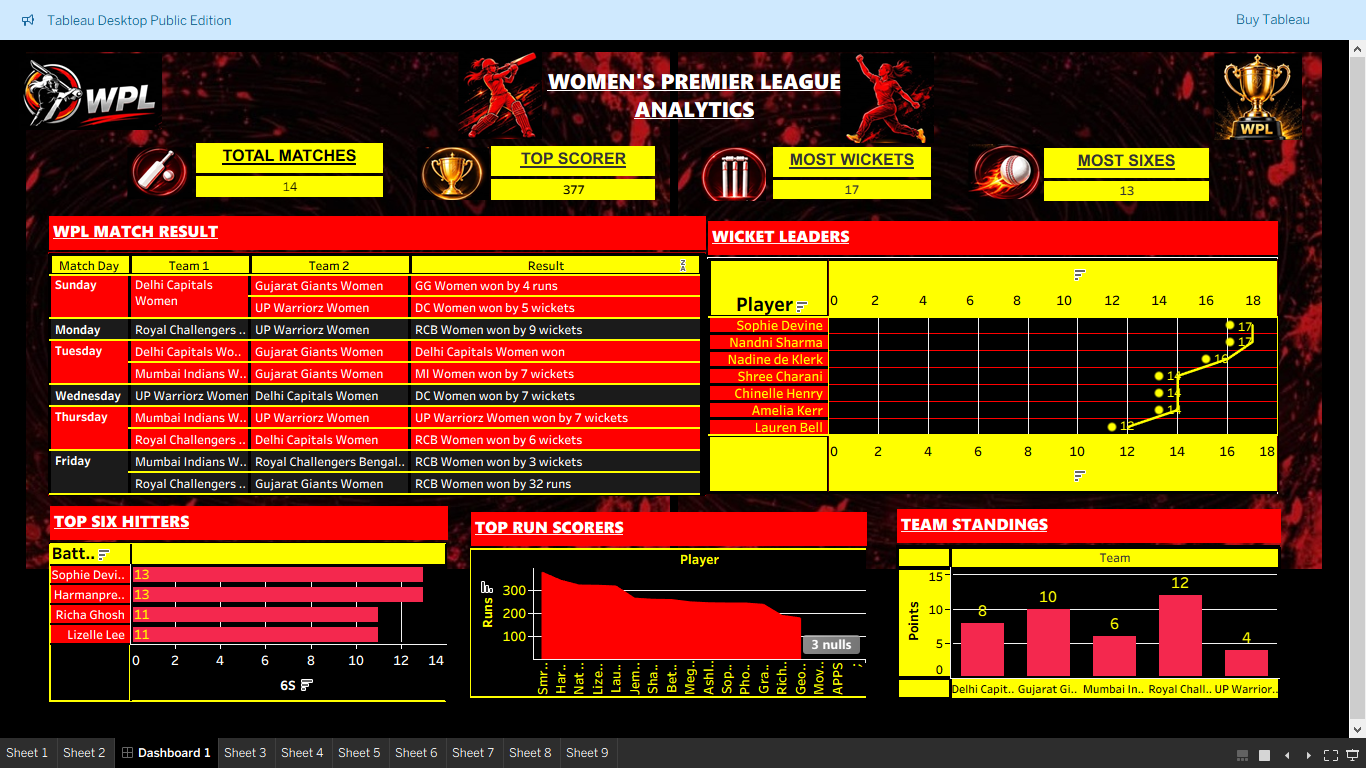

The dashboard page shown, as its layout file describes it:
{"tool":"tableau","page":{"name":"Dashboard 1","canvas":[1320,700],"ordinal":0},"visuals":[{"type":"image","param":"Image/dash 1.jpeg","box":[8,8,652,684]},{"type":"image","param":"Image/dash 1.jpeg","box":[660,8,652,684]},{"type":"image","param":"Image/dash 2.jpeg","box":[443.4,10,87.4,89]},{"type":"image","param":"Image/dash 6.jpg","box":[814.3,13,118.1,90]},{"type":"image","param":"Image/dash 5.jpg","box":[1199.2,13,90.2,87]},{"type":"text","box":[514.1,15,332.8,79]},{"type":"worksheet","title":"Sheet 6","mark":"Automatic","box":[182.2,103,186.8,54]},{"type":"image","param":"Image/dash 10.jpg","box":[953.8,104,72.5,56]},{"type":"image","param":"Image/dash 9.jpg","box":[403,105,72,57]},{"type":"worksheet","title":"Sheet 7","mark":"Automatic","box":[476.9,106,164.5,54]},{"type":"image","param":"Image/dash 7.jpg","box":[104,107,84,52]},{"type":"image","param":"Image/dash 8.jpg","box":[686,107,67,54]},{"type":"worksheet","title":"Sheet 8","mark":"Automatic","box":[758.5,107,158,52]},{"type":"worksheet","title":"Sheet 9","mark":"Automatic","box":[1030,108,165.5,53]},{"type":"worksheet","title":"Sheet 1","mark":"Automatic","rows":["Match Day","Team 1","Team 2","Result"],"box":[34.4,176,660,295]},{"type":"worksheet","title":"Sheet 4","mark":"Automatic","rows":["PLAYER"],"cols":["WKTS","WKTS"],"box":[693,181,572,287]},{"type":"worksheet","title":"Sheet 2","mark":"Automatic","rows":["BATTER"],"cols":["6s"],"box":[35.3,466,398.8,204]},{"type":"worksheet","title":"Sheet 3","mark":"Automatic","rows":["Points"],"cols":["Team"],"box":[882,469,385,191]},{"type":"worksheet","title":"Sheet 5","mark":"Area","rows":["RUNS"],"cols":["PLAYER"],"box":[456.4,472,396.9,187]}]}

Visuals, with their boxes on the page's 1320x700 design canvas (x1, y1, x2, y2). These are canvas units, not pixel positions in the 1366x768 screenshot, which may show the page scaled, cropped or inside an application window:
image: (8,8,660,692)
image: (660,8,1312,692)
image: (443,10,531,99)
image: (814,13,932,103)
image: (1199,13,1289,100)
text: (514,15,847,94)
"Sheet 6" worksheet: (182,103,369,157)
image: (954,104,1026,160)
image: (403,105,475,162)
"Sheet 7" worksheet: (477,106,641,160)
image: (104,107,188,159)
image: (686,107,753,161)
"Sheet 8" worksheet: (758,107,916,159)
"Sheet 9" worksheet: (1030,108,1196,161)
"Sheet 1" worksheet: (34,176,694,471)
"Sheet 4" worksheet: (693,181,1265,468)
"Sheet 2" worksheet: (35,466,434,670)
"Sheet 3" worksheet: (882,469,1267,660)
"Sheet 5" worksheet (Area marks): (456,472,853,659)
